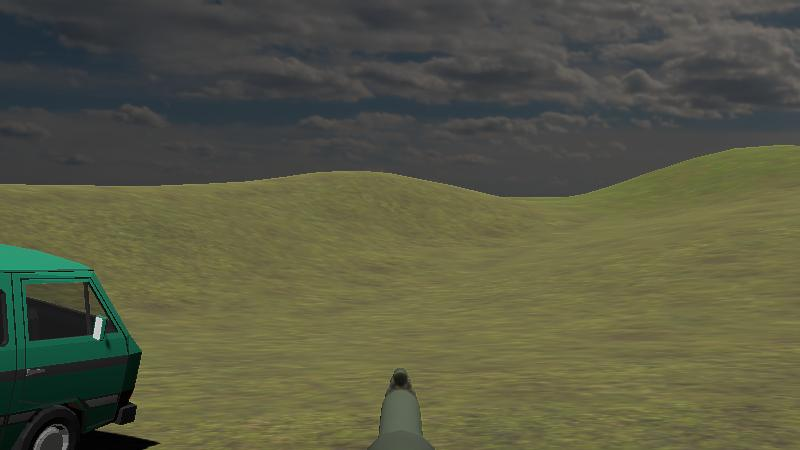car: (1, 229, 146, 450)
